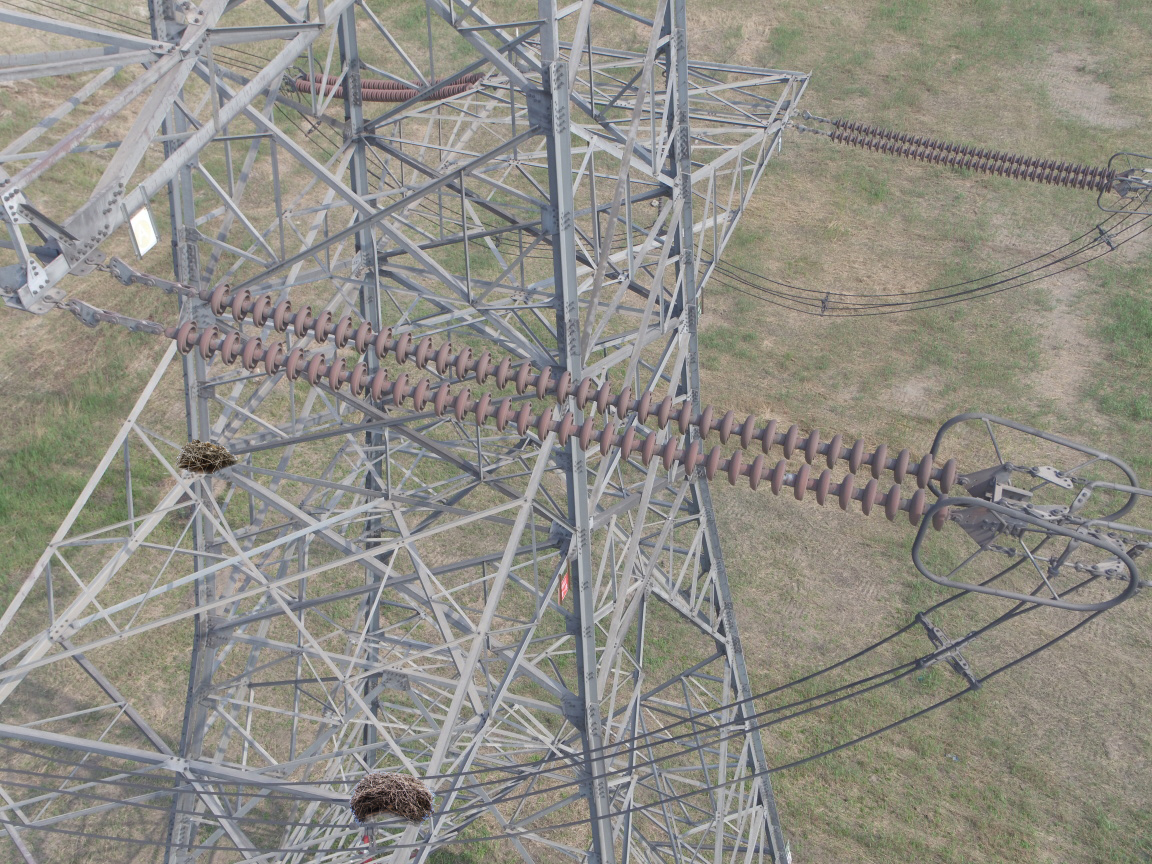nest: (341, 765, 438, 831), (174, 434, 239, 479)
